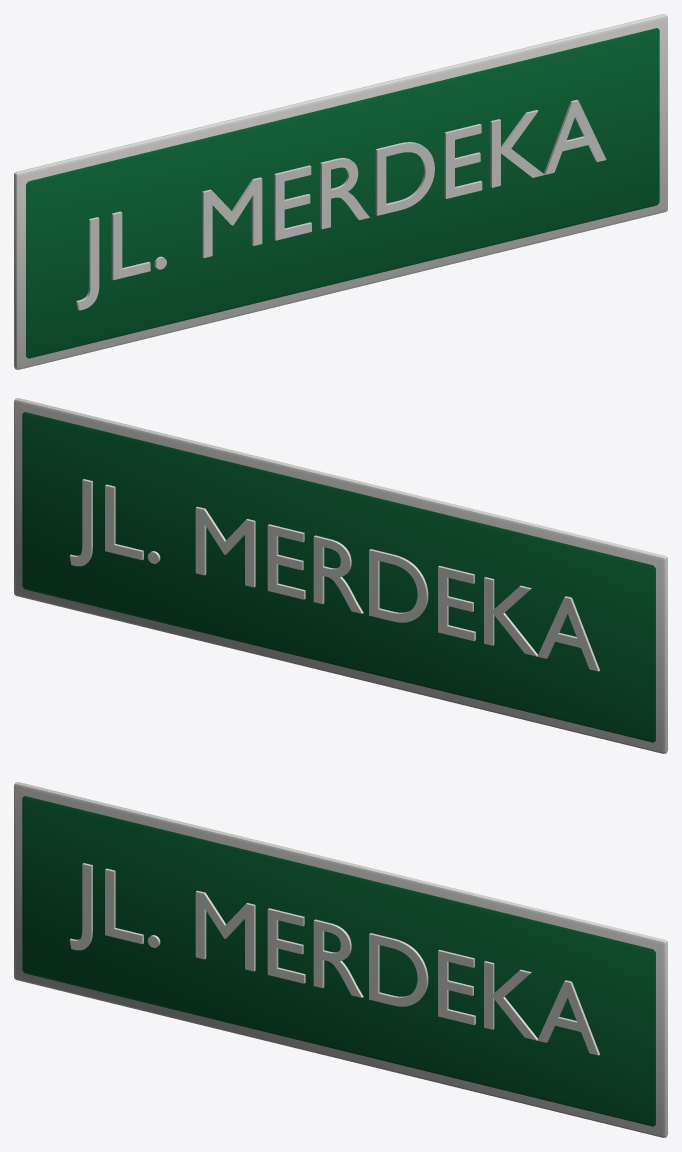
The model's file is StreetName_merdeka.fbx.
The picture shows the model from 3 angles, top to bottom: view 1: azimuth 30°, elevation 25°; view 2: azimuth 150°, elevation 25°; view 3: azimuth 330°, elevation 25°; orthographic projection.
Visible parts, largest first — view 1: StreetName_merdeka_Mesh; view 2: StreetName_merdeka_Mesh; view 3: StreetName_merdeka_Mesh.
Boxes of the visible parts, box(x1,y1,x2,y2) form: StreetName_merdeka_Mesh: box(14, 14, 667, 369); StreetName_merdeka_Mesh: box(14, 398, 667, 753); StreetName_merdeka_Mesh: box(14, 782, 667, 1137).
Bounding box in the file's own units: 1.21 × 0.35 × 0.026.
